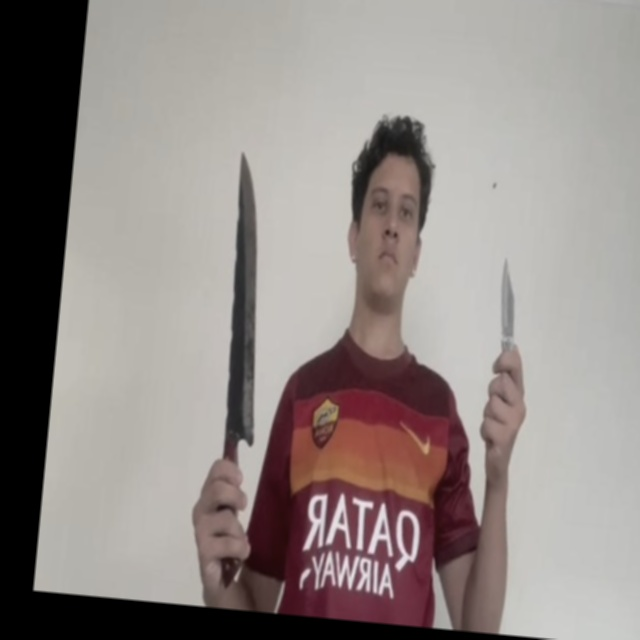Sharp-Object: (213, 149, 282, 448), (495, 260, 522, 341)
